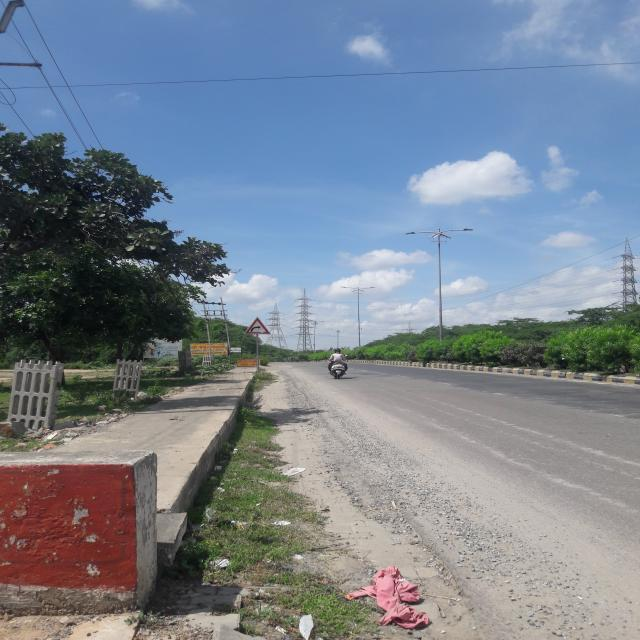right hand curve: (245, 318, 271, 335)
